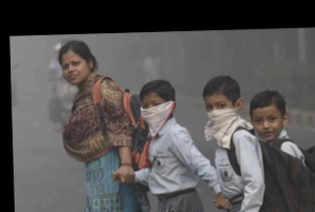with_mask: (138, 97, 166, 125), (205, 97, 232, 125)
without_mask: (250, 111, 283, 142), (61, 57, 88, 85)
